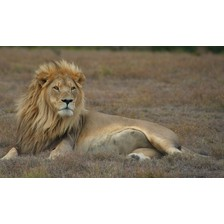lion: (0, 59, 212, 163)
